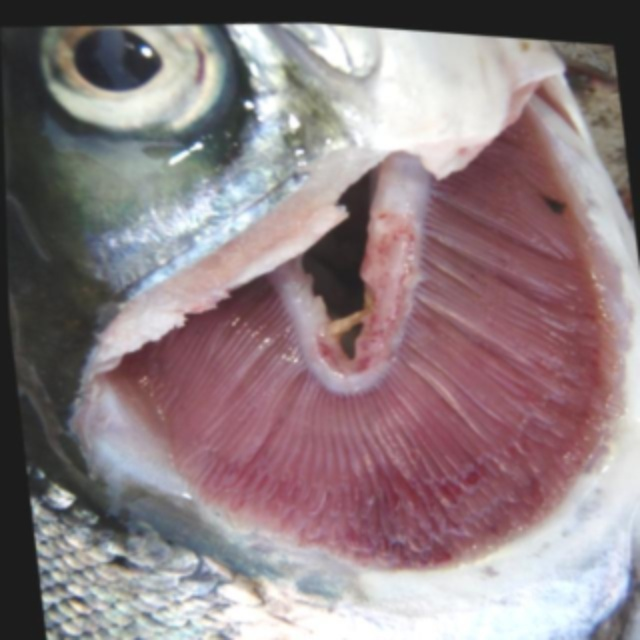Gill Disease: (53, 59, 640, 629)
